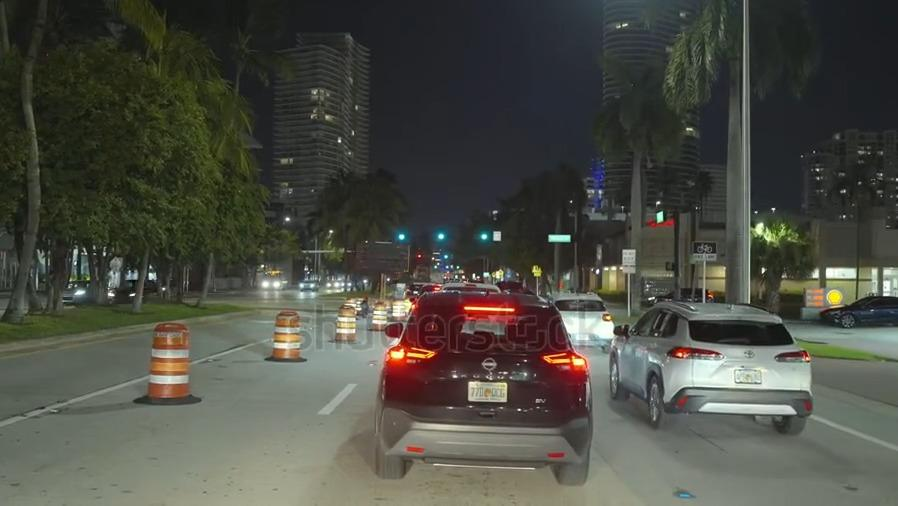bus: (261, 266, 287, 295)
car: (378, 294, 591, 479), (611, 299, 811, 434), (554, 291, 614, 351), (820, 293, 898, 330), (106, 275, 159, 307), (54, 275, 97, 310), (645, 283, 715, 303), (299, 277, 316, 291)
cone: (150, 320, 189, 398), (273, 309, 299, 359), (333, 300, 356, 343), (372, 296, 384, 333), (389, 296, 404, 322)
traffic light: (433, 227, 451, 249), (473, 227, 491, 249), (393, 230, 407, 244)
wheel: (642, 371, 666, 430), (608, 359, 620, 398)
